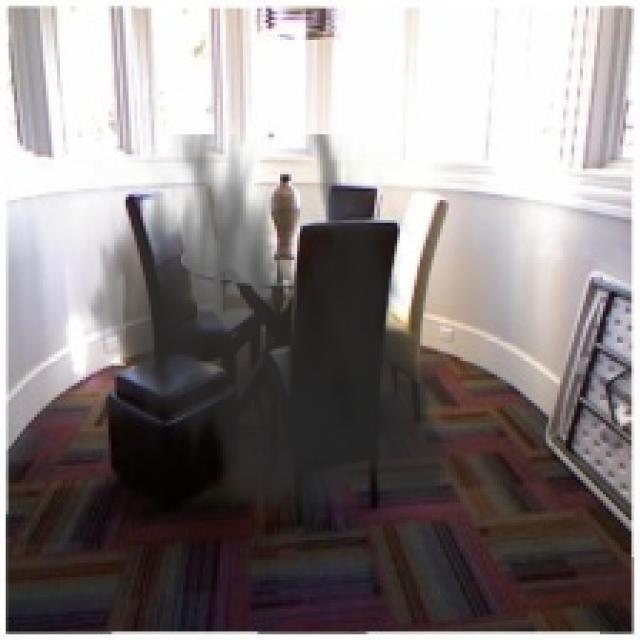Smoke: (77, 134, 469, 537)
